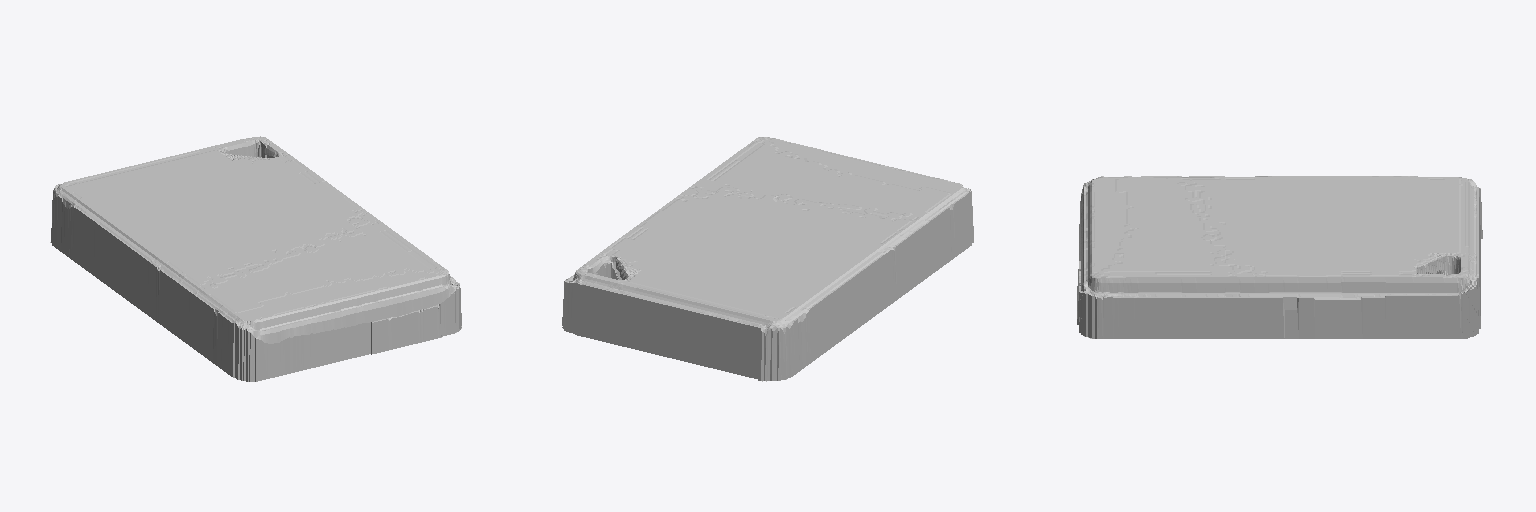
Rendered from minew-e8.obj.
3 renders of one model, left to right at view 1: azimuth 30°, elevation 25°; view 2: azimuth 150°, elevation 25°; view 3: azimuth 270°, elevation 25°, orthographic.
Visible parts, largest first — view 1: Eddystone-Url-Low-Energy-Ibeacon-Beacon-Sensor-Removebg-Preview; view 2: Eddystone-Url-Low-Energy-Ibeacon-Beacon-Sensor-Removebg-Preview; view 3: Eddystone-Url-Low-Energy-Ibeacon-Beacon-Sensor-Removebg-Preview.
Boxes of the visible parts, x1,y1,x2,y2 form: Eddystone-Url-Low-Energy-Ibeacon-Beacon-Sensor-Removebg-Preview: [50, 136, 461, 381]; Eddystone-Url-Low-Energy-Ibeacon-Beacon-Sensor-Removebg-Preview: [562, 137, 973, 381]; Eddystone-Url-Low-Energy-Ibeacon-Beacon-Sensor-Removebg-Preview: [1077, 176, 1482, 338].
Bounding box in the file's own units: 41.14 × 9.69 × 63.71.